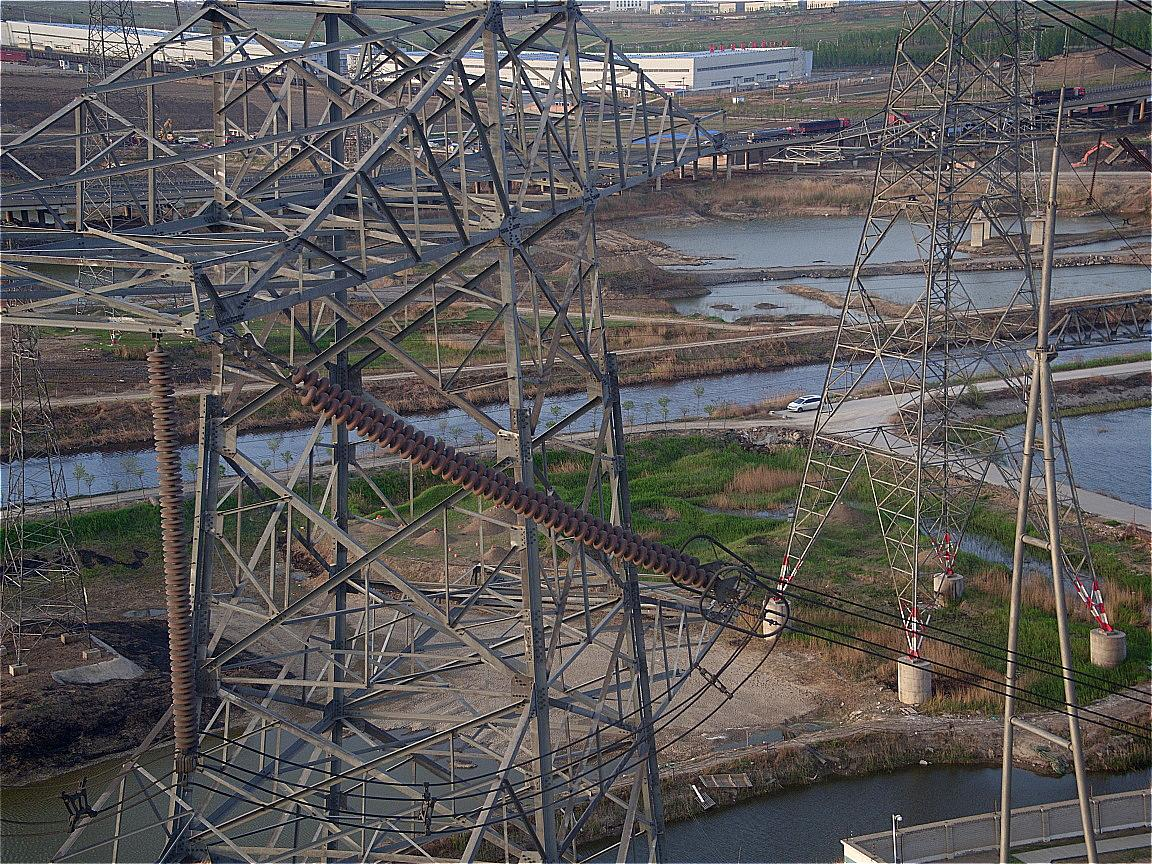insultor1: (292, 363, 708, 590)
insultor2: (145, 349, 202, 755)
